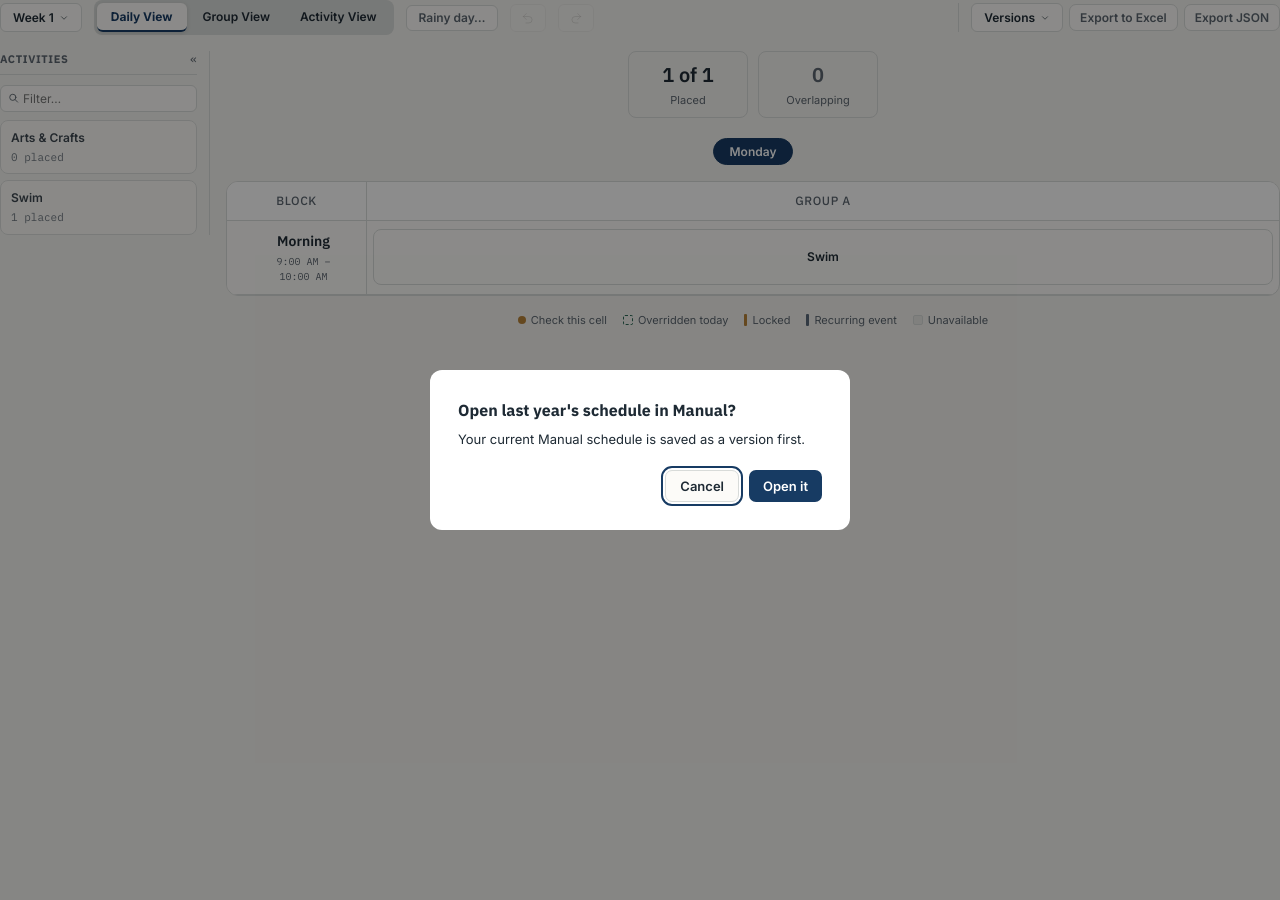
Scenario: ScheduleScreen: open an imported version in Manual › cancelling the confirmation leaves Manual untouched
The image size is (1280, 900).
Click the button "Cancel" at point(702, 486), box [665,470,739,502]
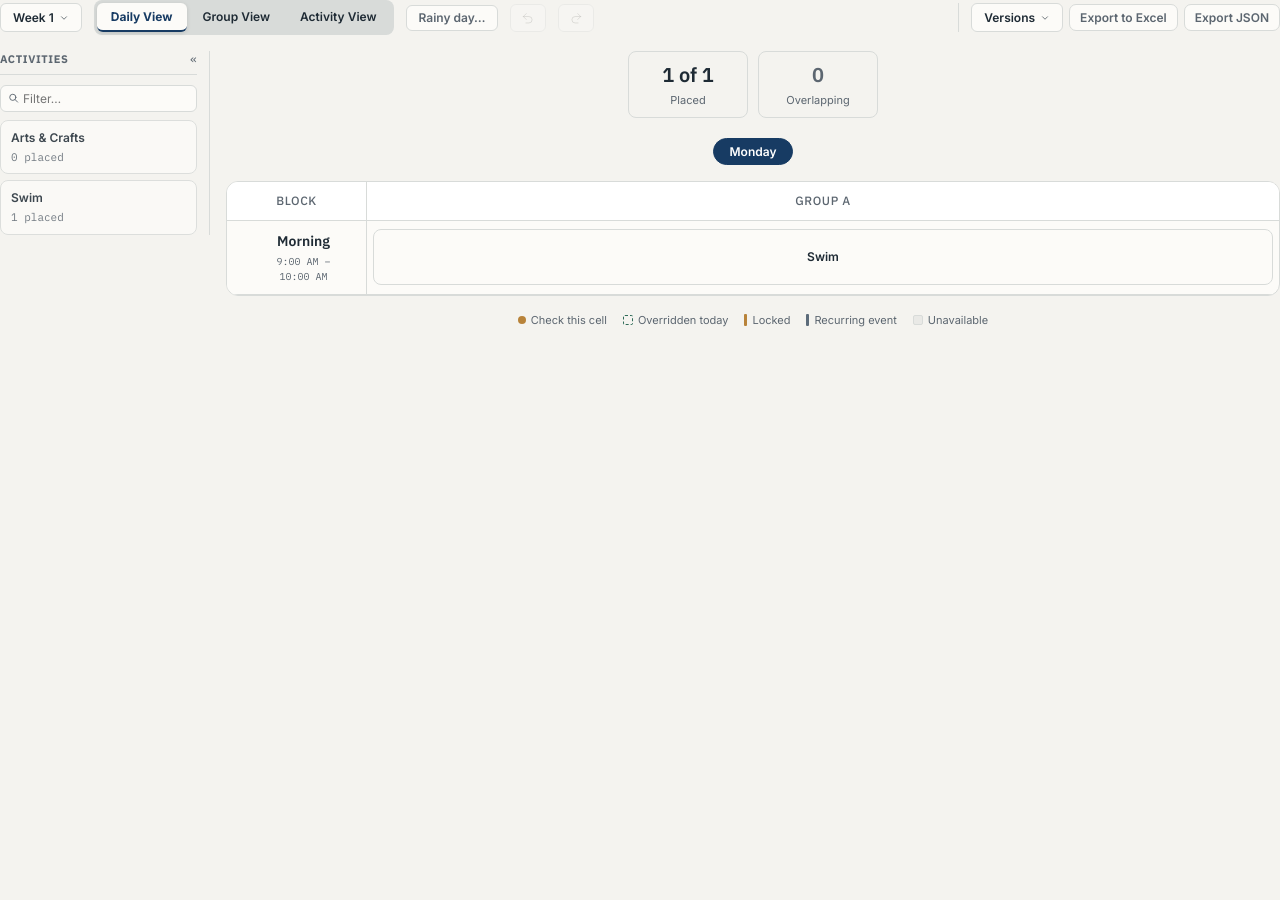
Expected: the text "saved as a version first" is gone
